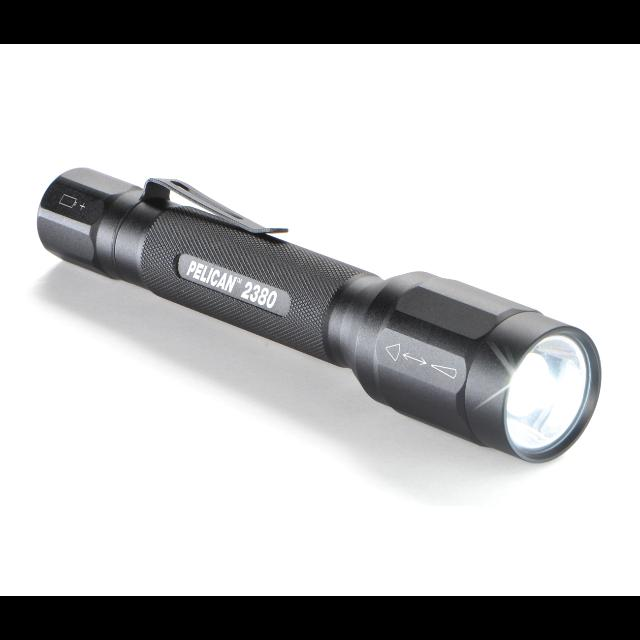Flashlight: (29, 160, 612, 472)
